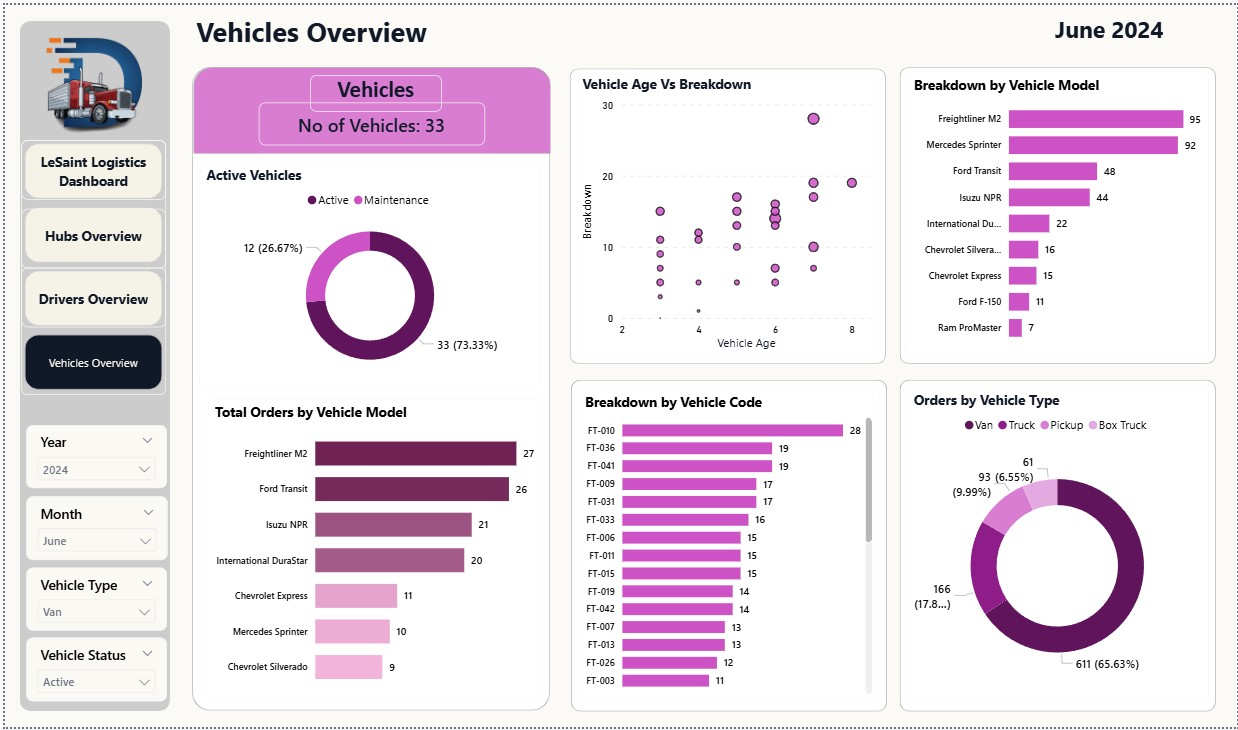

This screenshot's page, from the dashboard's own definition file:
{"tool":"powerbi","page":{"name":"Vehicles Overview","canvas":[1450,850],"ordinal":3},"visuals":[{"type":"shape","box":[13.3,15,185,820],"z":0},{"type":"textbox","box":[216.7,0,531.7,70],"z":1000},{"type":"slicer","fields":{"Values":["Date Table.Month"]},"box":[24.4,577.8,166.7,75.6],"z":2000},{"type":"image","box":[23.1,26.2,166.2,138.5],"z":3000},{"type":"cardVisual","fields":{"Data":["_Measures.Year Month title"]},"box":[1161.7,6.7,275,40],"z":4000},{"type":"shape","box":[660,70,380,355.7],"z":5000},{"type":"shape","box":[216.5,69.3,428.8,765.1],"z":6000},{"type":"shape","box":[217.1,69.3,428.6,110],"z":7000},{"type":"cardVisual","fields":{"Data":["Vehicles_Dim.No of Vehicles"]},"box":[298.3,115,266.7,50],"z":8000},{"type":"textbox","box":[358.3,81.7,155,43.3],"z":9000},{"type":"donutChart","title":"Active Vehicles","fields":{"Category":["Vehicles_Dim.Vehicle Status"],"Y":["CountNonNull(Vehicles_Dim.Vehicle ID)"]},"box":[228.3,183.3,403.3,265],"z":10000},{"type":"barChart","fields":{"Category":["Vehicles_Dim.Vehicle Model"],"Y":["_Measures.Total Orders"]},"box":[238.2,463.4,394.1,356.6],"z":11000},{"type":"scatterChart","title":"Vehicle Age Vs Breakdown","fields":{"X":["Vehicles_Dim.Vehicle Age"],"Y":["Vehicles_Dim.Breakdown"],"Size":["Sum(Vehicles_Dim.Breakdown)1"]},"box":[672.9,81.4,355.7,331.4],"z":12000},{"type":"shape","box":[1048.6,68.6,380,357.1],"z":13000},{"type":"shape","box":[661.4,437.1,380,398.6],"z":14000},{"type":"shape","box":[1048.6,437.1,380,398.6],"z":15000},{"type":"barChart","title":"Breakdown by Vehicle Code","fields":{"Category":["Vehicles_Dim.Vehicle Code"],"Y":["Sum(Vehicles_Dim.Breakdown)"]},"box":[672.9,451.4,355.7,368.6],"z":16000},{"type":"barChart","title":"Breakdown by Vehicle Model","fields":{"Y":["Sum(Vehicles_Dim.Breakdown)"],"Category":["Vehicles_Dim.Vehicle Model"]},"box":[1060,78.6,355.7,334.3],"z":17000},{"type":"donutChart","title":"Orders by Vehicle Type","fields":{"Category":["Orders_Fact.Vehicle Type"],"Y":["_Measures.Total Orders"]},"box":[1060,448.6,355.7,371.4],"z":18000},{"type":"slicer","fields":{"Values":["Orders_Fact.Vehicle Type"]},"box":[24.4,661.1,165.6,74.4],"z":19000},{"type":"slicer","fields":{"Values":["Vehicles_Dim.Vehicle Status"]},"box":[24.4,744.4,165.6,75.6],"z":20000},{"type":"pageNavigator","box":[18.6,158.6,170,300],"z":21000},{"type":"slicer","fields":{"Values":["Date Table.Year"]},"box":[25.6,494.4,165.6,74.4],"z":22000},{"type":"actionButton","box":[19,159,170,70],"z":23000},{"type":"actionButton","box":[19,239,170,70],"z":24000},{"type":"actionButton","box":[19,309,170,70],"z":25000}]}

Visuals, with their boxes in screenshot pixels (x1, y1, x2, y2), scaled from the page's 1450x850 canvas onto the 1238x730 screenshot:
shape: l=11, t=13, r=169, b=717
textbox: l=185, t=0, r=639, b=60
slicer - Date Table.Month: l=21, t=496, r=163, b=561
image: l=20, t=23, r=162, b=141
cardVisual - _Measures.Year Month title: l=992, t=6, r=1227, b=40
shape: l=564, t=60, r=888, b=366
shape: l=185, t=60, r=551, b=717
shape: l=185, t=60, r=551, b=154
cardVisual - Vehicles_Dim.No of Vehicles: l=255, t=99, r=482, b=142
textbox: l=306, t=70, r=438, b=107
"Active Vehicles" donutChart: l=195, t=157, r=539, b=385
barChart - Vehicles_Dim.Vehicle Model x _Measures.Total Orders: l=203, t=398, r=540, b=704
"Vehicle Age Vs Breakdown" scatterChart: l=575, t=70, r=878, b=355
shape: l=895, t=59, r=1220, b=366
shape: l=565, t=375, r=889, b=718
shape: l=895, t=375, r=1220, b=718
"Breakdown by Vehicle Code" barChart: l=575, t=388, r=878, b=704
"Breakdown by Vehicle Model" barChart: l=905, t=68, r=1209, b=355
"Orders by Vehicle Type" donutChart: l=905, t=385, r=1209, b=704
slicer - Orders_Fact.Vehicle Type: l=21, t=568, r=162, b=632
slicer - Vehicles_Dim.Vehicle Status: l=21, t=639, r=162, b=704
pageNavigator: l=16, t=136, r=161, b=394
slicer - Date Table.Year: l=22, t=425, r=163, b=488
actionButton: l=16, t=137, r=161, b=197
actionButton: l=16, t=205, r=161, b=265
actionButton: l=16, t=265, r=161, b=325
